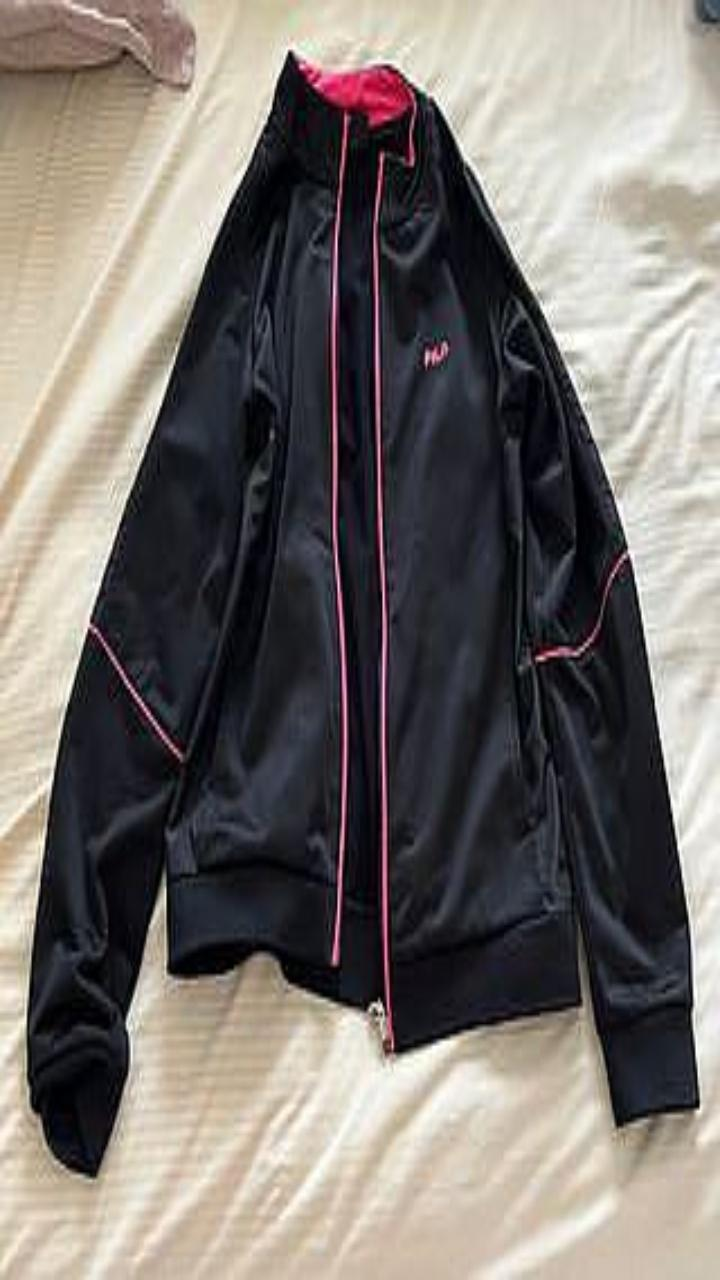Sports_Jacket: (27, 51, 698, 1174)
